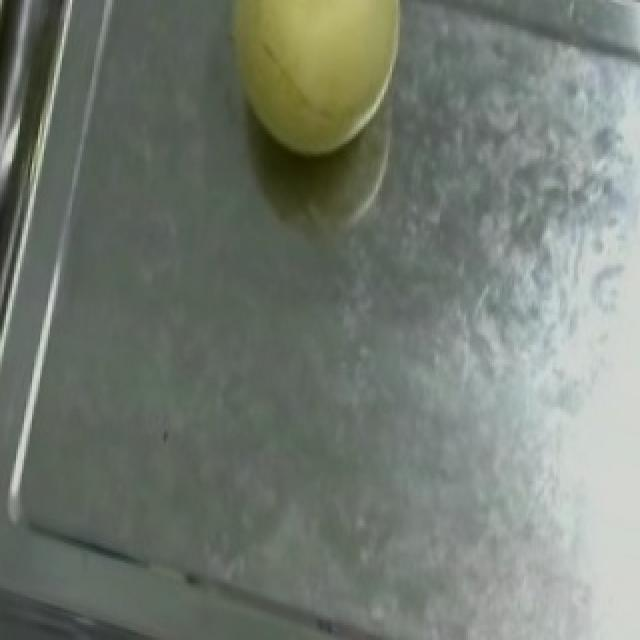Fruit: (196, 0, 432, 179)
